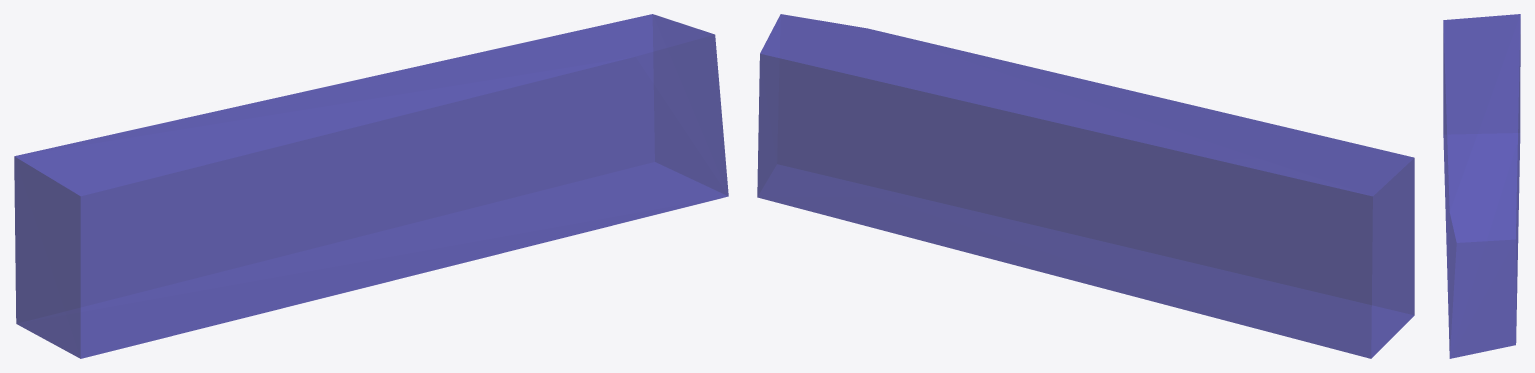
3 views of the same model, side by side, from view 1: azimuth 30°, elevation 25°; view 2: azimuth 150°, elevation 25°; view 3: azimuth 270°, elevation 25° (orthographic). The views are drawn at different scales.
Visible parts, largest first — view 1: Shape_IndexedFaceSet.013_Shape_IndexedFaceSet.12854; view 2: Shape_IndexedFaceSet.013_Shape_IndexedFaceSet.12854; view 3: Shape_IndexedFaceSet.013_Shape_IndexedFaceSet.12854.
Boxes of the visible parts, left/top/right/bottom form: Shape_IndexedFaceSet.013_Shape_IndexedFaceSet.12854: left=14, top=14, right=728, bottom=358; Shape_IndexedFaceSet.013_Shape_IndexedFaceSet.12854: left=757, top=14, right=1414, bottom=358; Shape_IndexedFaceSet.013_Shape_IndexedFaceSet.12854: left=1443, top=14, right=1520, bottom=358.
Size of the model in its own units: 0.5563 by 0.1344 by 0.0795.
